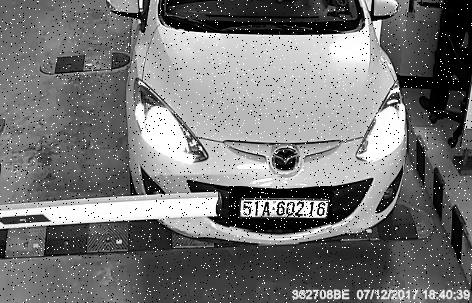License-plate: (230, 188, 333, 233)
